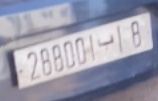0: (64, 39, 76, 69), (76, 35, 87, 66)
2: (24, 51, 42, 80)
8: (52, 42, 65, 75), (40, 47, 53, 77), (130, 19, 143, 49)
b: (97, 31, 115, 55)
